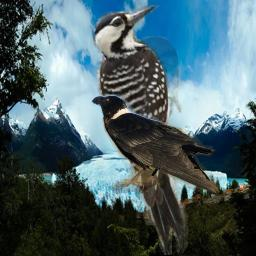Crow: (90, 92, 220, 195)
Woodpecker: (93, 5, 189, 255)
